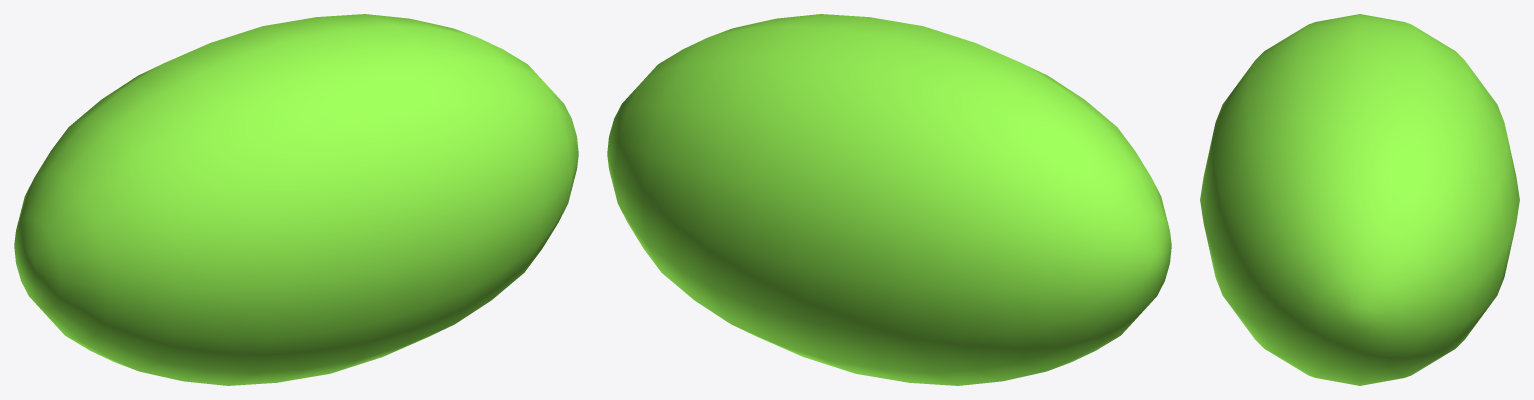
Rendered from Buster.fbx.
3 renders of one model, left to right at view 1: azimuth 30°, elevation 25°; view 2: azimuth 150°, elevation 25°; view 3: azimuth 270°, elevation 25°, orthographic. The views are drawn at different scales.
Visible parts, largest first — view 1: Sphere; view 2: Sphere; view 3: Sphere.
Part boxes in pixels (bbox=[...]): Sphere: bbox=[14, 14, 578, 385]; Sphere: bbox=[607, 14, 1171, 385]; Sphere: bbox=[1200, 14, 1519, 385].
Bounding box in the file's own units: 1.95 × 1.11 × 1.11.
Materials: 1 (1 with a texture image).
